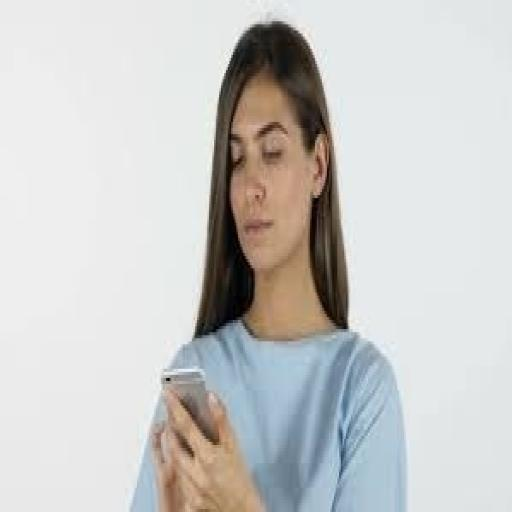texting: (127, 15, 409, 509)
